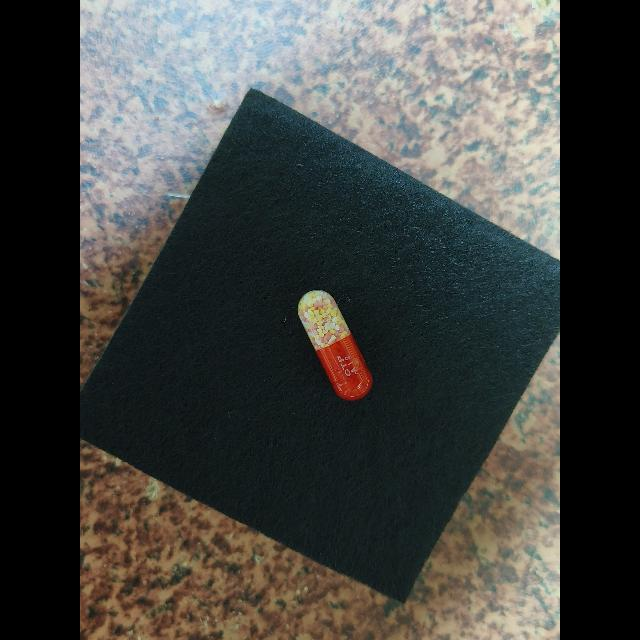Intact Capsule: (298, 290, 373, 401)
